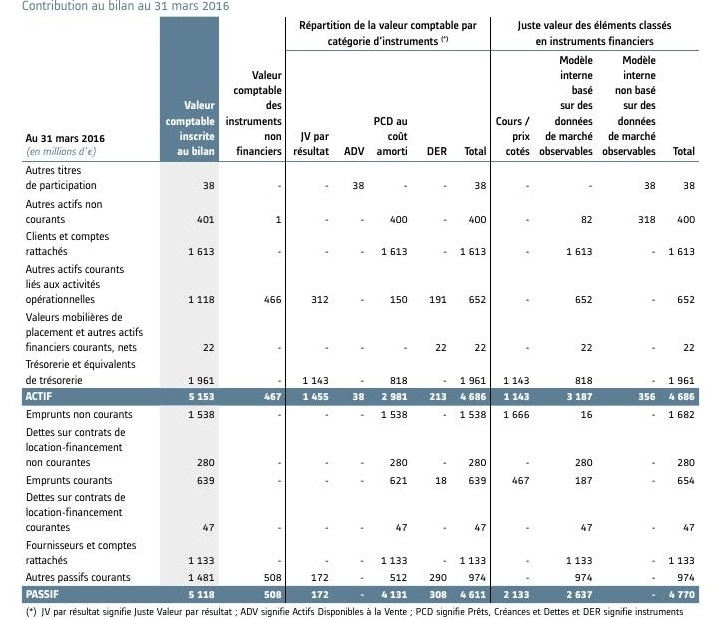table: (0, 0, 720, 619)
